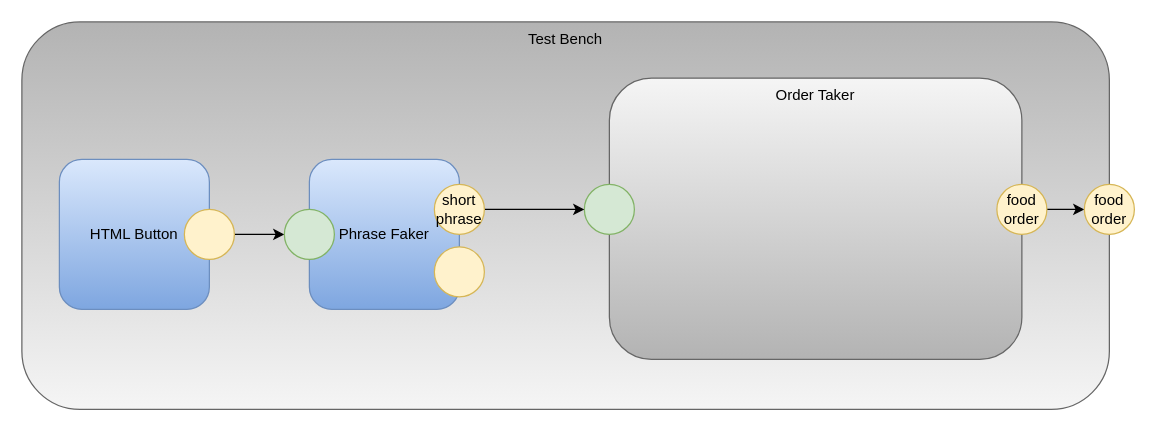
Some shapes in this 1156 by 431 pixel diagram are drawn without their labels. The shapes that lost their labels are listed below. From the top down, each one's centre as x and y in pixels, then its label:
At point 608,208: "phrase".
At point 208,233: "click".
At point 308,233: "go".
At point 458,271: "long phrase".
